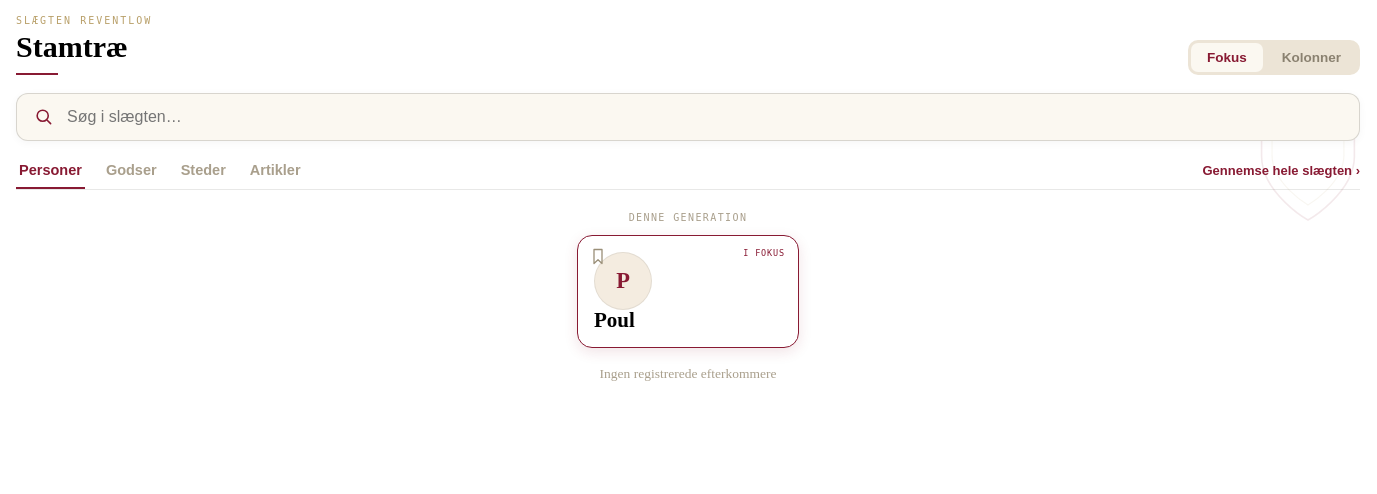
Test case: TreeView — marker-gatet kandidat-kolonne (Phase C) › viser kandidat-kolonne med ordlyd, proveniens, kuld-grupper og "muligt slægtled"-tags
Step 1. Click the text "Kolonner" → (1311, 57), box [1282,50,1341,64]
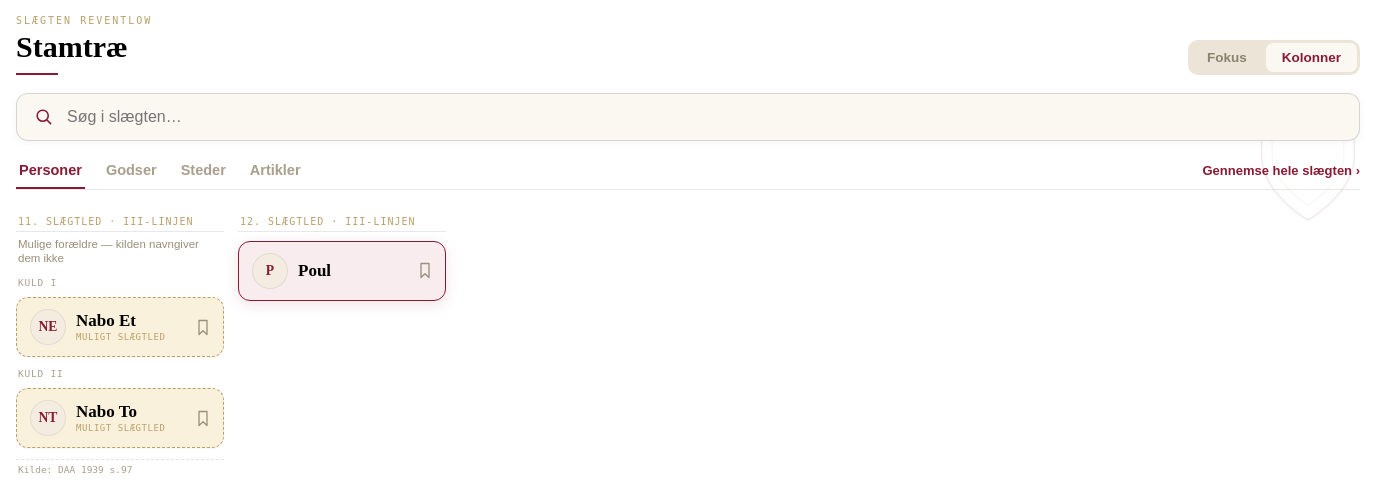
Expected: the text "11. slægtled · III-linjen" is shown, [16,216,224,232]
Expected: the text "Mulige forældre — kilden navngiver dem ikke" is shown, [16,236,224,266]
Expected: the text "Kilde: DAA 1939 s.97" is shown, [16,459,224,477]
